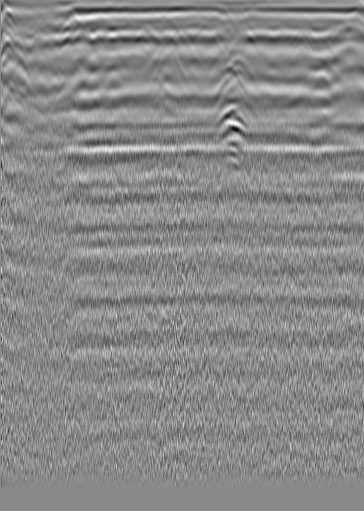가스: (208, 102, 255, 143)
상수: (290, 22, 310, 42)
오수: (26, 34, 46, 54)
우수: (156, 30, 176, 50)
